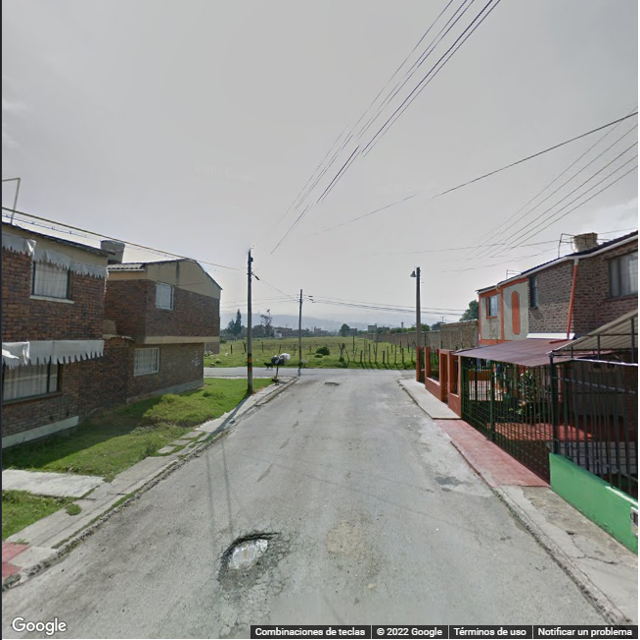D40: (225, 531, 279, 580), (321, 514, 378, 560)
